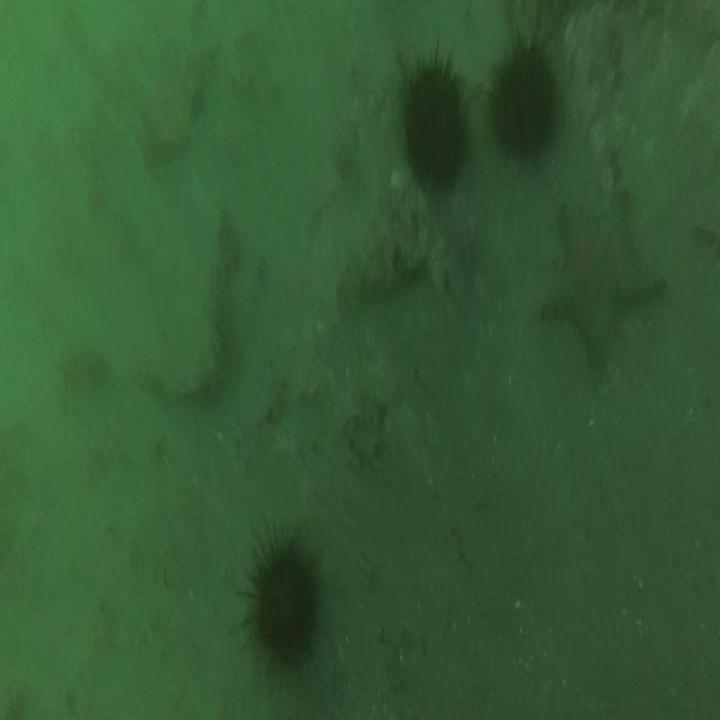echinus: (251, 549, 318, 672), (490, 48, 555, 165), (406, 71, 467, 189)
starfish: (542, 196, 663, 364)
